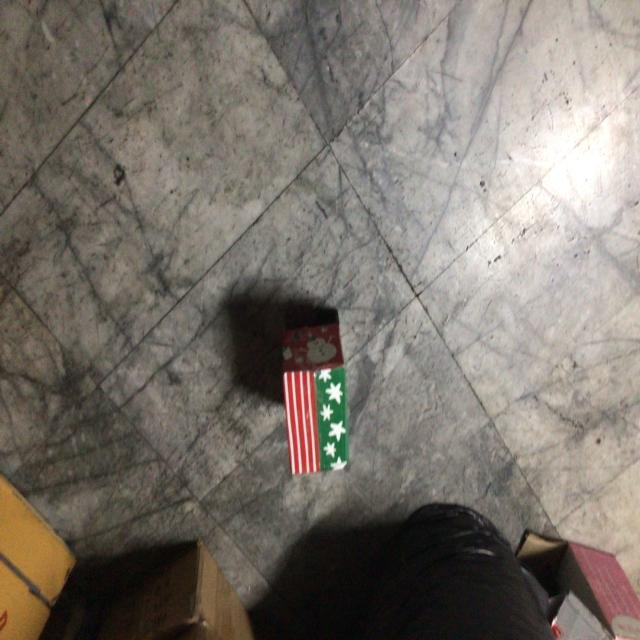cardboard: (262, 311, 362, 479)
